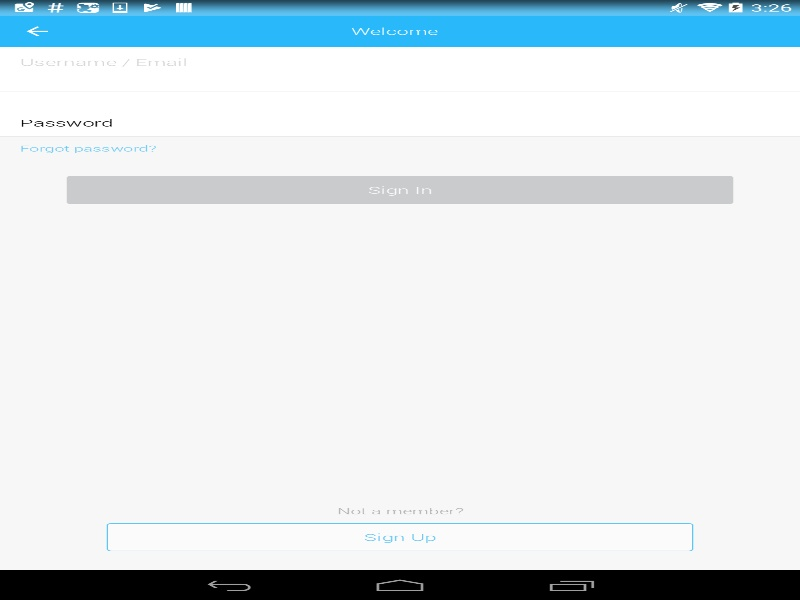Button: (66, 175, 733, 204), (106, 523, 693, 551), (0, 15, 74, 46)
Input: (20, 65, 780, 91), (20, 110, 780, 136)
